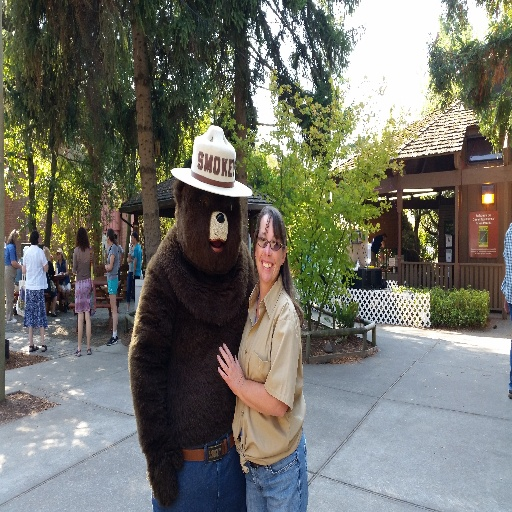hand: (210, 342, 241, 406), (503, 297, 509, 314), (49, 253, 55, 263), (19, 262, 23, 271), (60, 269, 64, 277), (104, 263, 107, 272), (132, 271, 135, 279), (128, 253, 131, 259)
